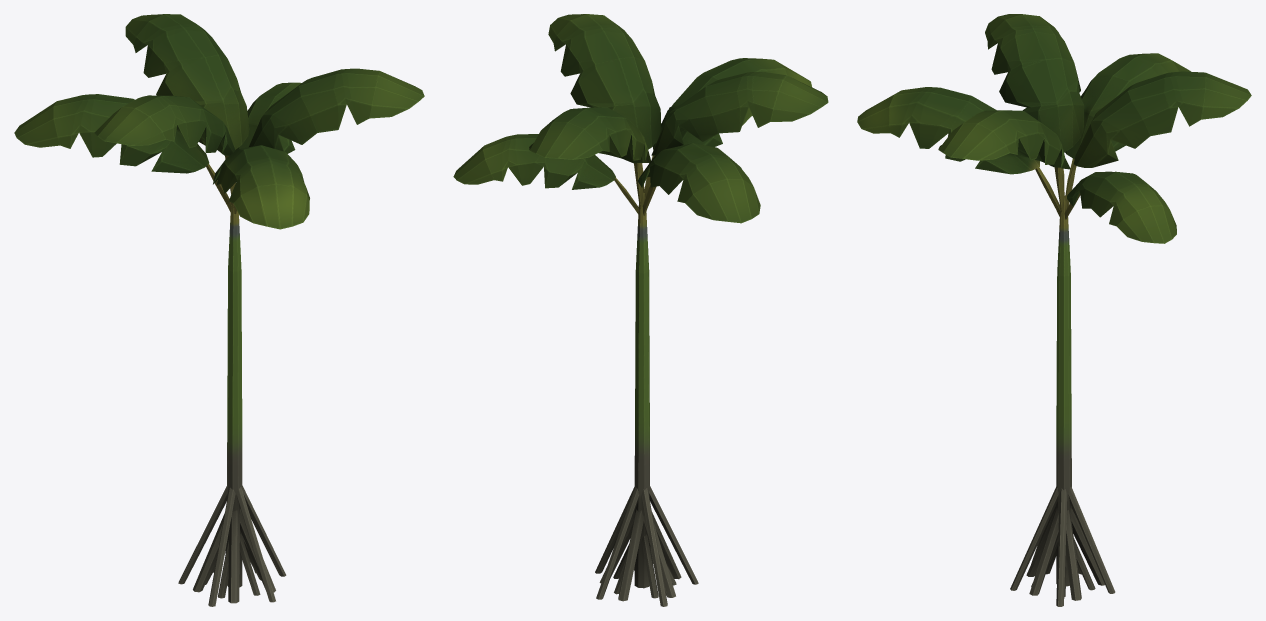
3 views of the same model, side by side, from view 1: azimuth 30°, elevation 25°; view 2: azimuth 150°, elevation 25°; view 3: azimuth 270°, elevation 25° (orthographic).
Visible parts, largest first — view 1: Node; view 2: Node; view 3: Node.
Boxes of the visible parts, <box> form: Node: <box>14,14,424,606</box>; Node: <box>453,14,828,606</box>; Node: <box>857,14,1251,606</box>.
Size of the model in its own units: 11.26 by 18.44 by 12.87.
1 material, 1 textured.
